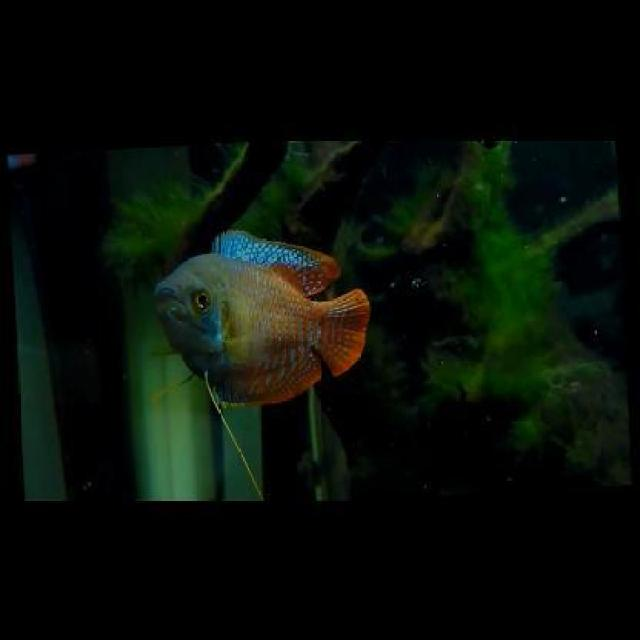Gourami: (151, 225, 375, 412)
